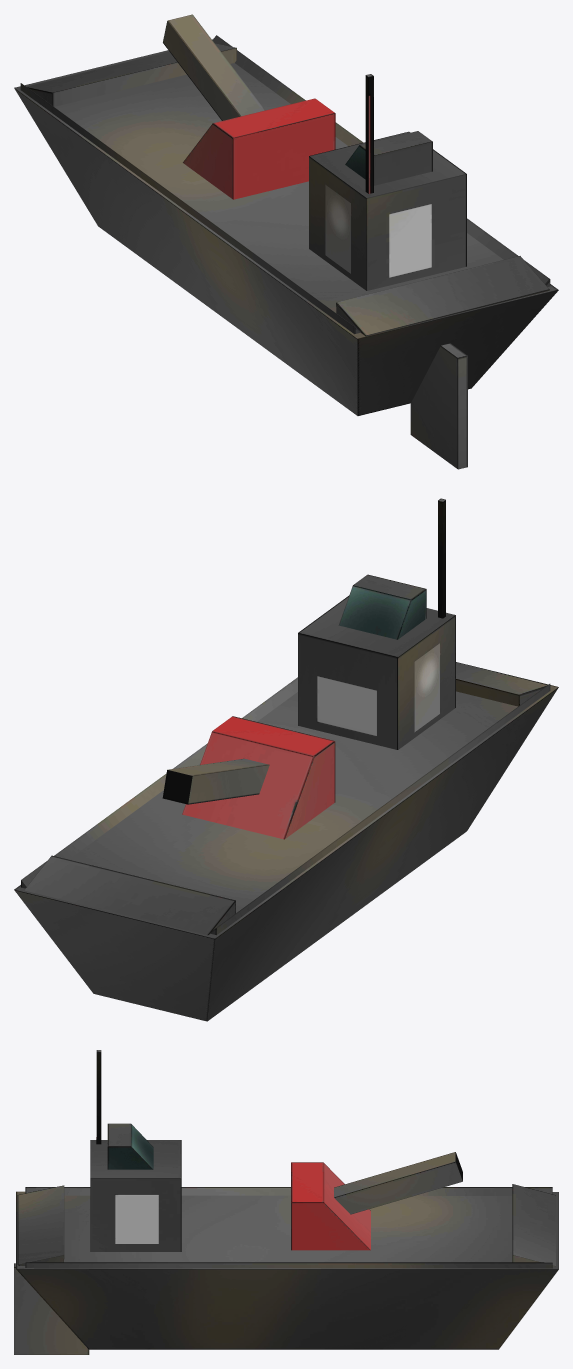
3 renders of one model, top to bottom at view 1: azimuth 30°, elevation 25°; view 2: azimuth 150°, elevation 25°; view 3: azimuth 270°, elevation 25°, orthographic. The views are drawn at different scales.
Visible parts, largest first — view 1: Boat; view 2: Boat; view 3: Boat.
Boxes of the visible parts, box(x1,y1,x2,y2) form: Boat: box(14, 14, 558, 469); Boat: box(14, 498, 558, 1021); Boat: box(14, 1050, 558, 1354).
Bounding box in the file's own units: 271 × 466 × 803.
Materials: 1 (1 with a texture image).
